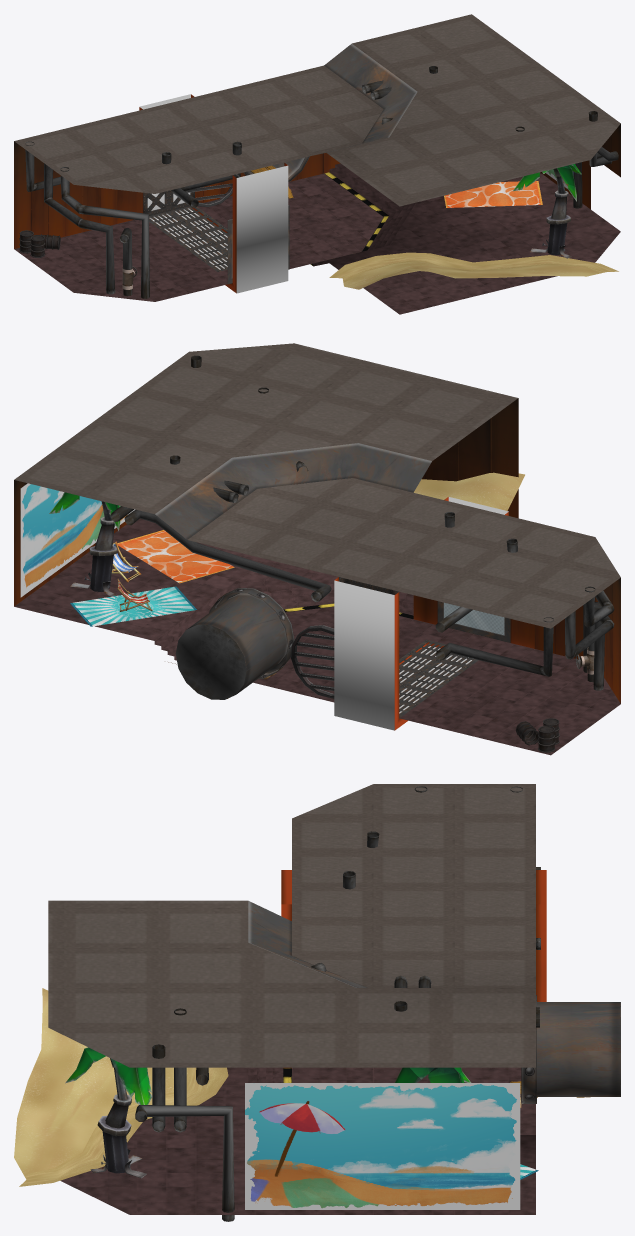
Rendered from molten_shop.fbx.
3 views of the same model, one above another, from view 1: azimuth 30°, elevation 25°; view 2: azimuth 150°, elevation 25°; view 3: azimuth 270°, elevation 25° (orthographic). The views are drawn at different scales.
Parts seen in each view (by area): view 1: ceiling, floor, Wall, lava, Pipes, Sand, grates, PalmTree.001, Towels, BigPipe, Barrel, lavaWall; view 2: ceiling, floor, Wall, BigPipe, lava, Pipes, Mural, Towels, grates, Sand, PalmTree, Barrel (+1 smaller); view 3: ceiling, Mural, floor, Sand, BigPipe, Pipes, PalmTree.001, lavaWall, PalmTree.
Boxes of the visible parts, <box> form: ceiling: <box>14,14,620,206</box>; floor: <box>14,163,620,314</box>; Wall: <box>14,124,620,284</box>; lava: <box>139,94,288,293</box>; Pipes: <box>25,66,618,298</box>; Sand: <box>329,252,618,289</box>; grates: <box>143,190,227,271</box>; PalmTree.001: <box>513,164,581,258</box>; Towels: <box>444,181,542,207</box>; BigPipe: <box>185,156,309,206</box>; Barrel: <box>19,230,60,257</box>; lavaWall: <box>139,94,287,293</box>; ceiling: <box>14,343,620,628</box>; floor: <box>14,518,620,755</box>; Wall: <box>14,398,620,703</box>; BigPipe: <box>175,588,334,699</box>; lava: <box>334,497,508,730</box>; Pipes: <box>110,355,614,690</box>; Mural: <box>20,483,135,597</box>; Towels: <box>70,530,234,626</box>; grates: <box>339,577,478,718</box>; Sand: <box>414,472,524,510</box>; PalmTree: <box>49,492,120,596</box>; Barrel: <box>515,718,559,752</box>; ceiling: <box>48,784,535,1067</box>; Mural: <box>245,1083,520,1209</box>; floor: <box>60,1067,535,1214</box>; Sand: <box>14,988,228,1186</box>; BigPipe: <box>521,995,620,1103</box>; Pipes: <box>135,786,540,1221</box>; PalmTree.001: <box>65,1047,152,1178</box>; lavaWall: <box>281,870,546,1001</box>; PalmTree: <box>395,1067,471,1082</box>.
Size of what is drawn, in the model's own units: 4064 by 1163 by 3416.
